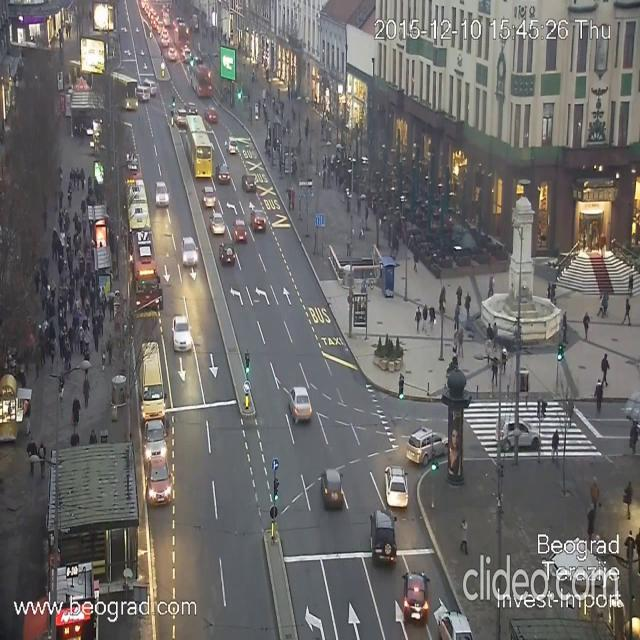bus: (125, 226, 166, 310), (182, 120, 215, 178), (125, 176, 152, 228), (108, 67, 136, 113), (188, 62, 212, 92)
car: (138, 340, 162, 426), (406, 426, 448, 466), (403, 564, 430, 624), (499, 418, 541, 452), (373, 504, 396, 563), (436, 608, 471, 640), (146, 453, 168, 502), (384, 465, 408, 508), (142, 418, 166, 459), (320, 468, 343, 509), (288, 386, 312, 423), (172, 315, 192, 352), (182, 234, 198, 276), (153, 184, 171, 208), (241, 174, 259, 196), (220, 245, 237, 268), (251, 210, 265, 233), (212, 214, 227, 235), (218, 167, 232, 189), (224, 129, 238, 151), (232, 219, 246, 240), (146, 78, 158, 100), (171, 107, 183, 125), (138, 82, 149, 100), (204, 188, 213, 206), (167, 47, 178, 61), (187, 98, 195, 115), (207, 107, 216, 121), (184, 47, 190, 63)
